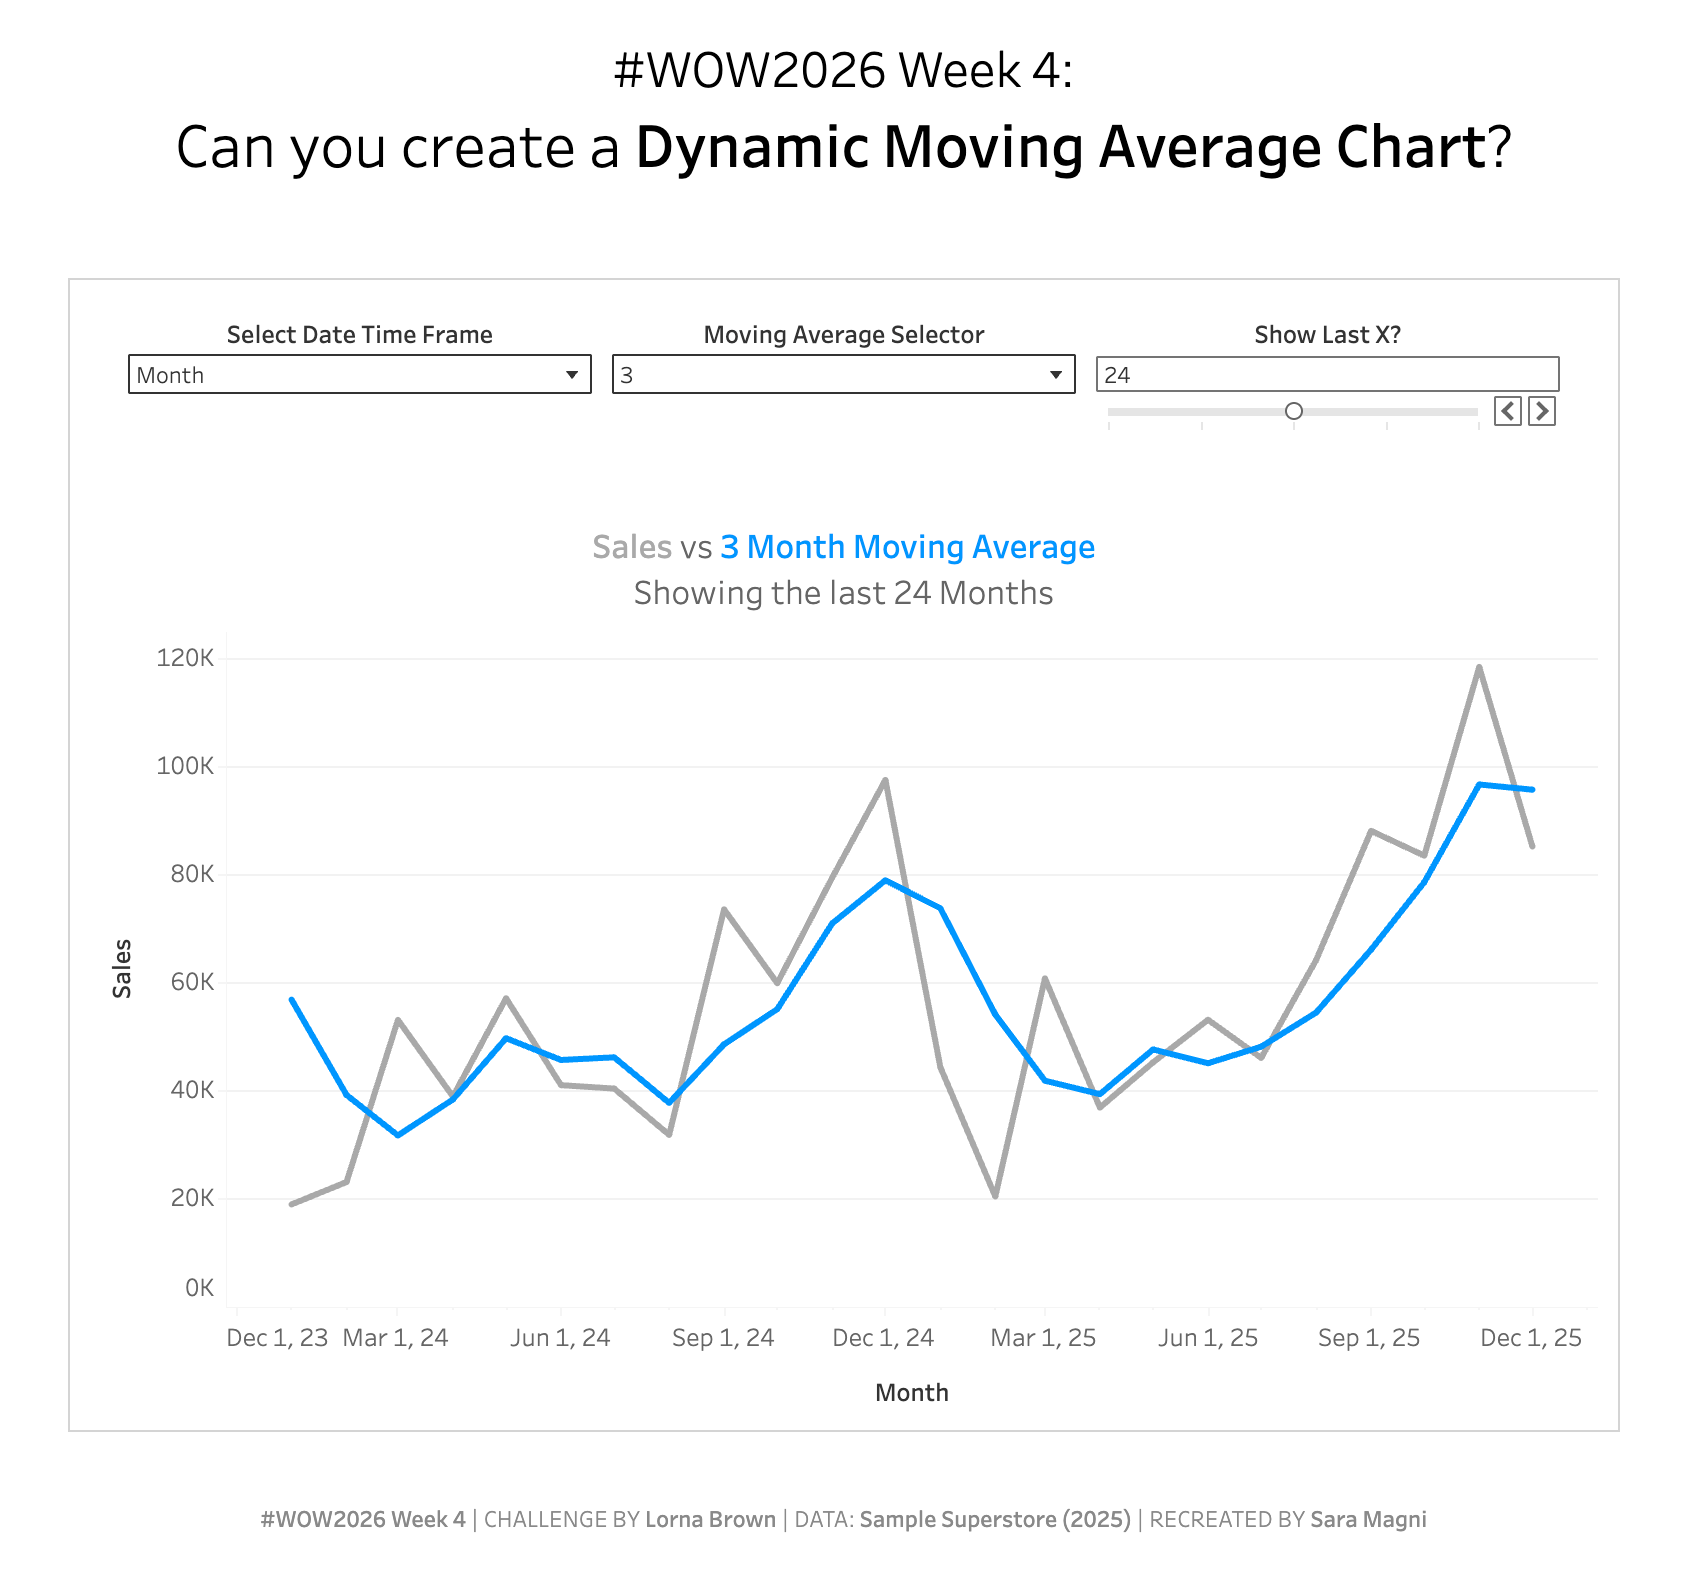

What the dashboard file says about the page in this screenshot:
{"tool":"tableau","page":{"name":"#wow26_w4","canvas":[800,800],"ordinal":0},"visuals":[{"type":"text","box":[8,8,784,102]},{"type":"blank","box":[8,110,784,30]},{"type":"worksheet","title":"Sheet 1","mark":"Automatic","cols":["Calculation_4043761389576193"],"box":[8,140,784,585]},{"type":"parameter","param":"[Parameters].[Parameter 1]","box":[37,159,242,92]},{"type":"parameter","param":"[Parameters].[Parameter 3]","box":[279,159,242,92]},{"type":"parameter","param":"[Parameters].[Parameter 4]","box":[521,159,242,92]},{"type":"blank","box":[8,725,784,30]},{"type":"text","box":[8,755,784,16]}]}

Visuals, with their boxes on the page's 800x800 design canvas (x1, y1, x2, y2). These are canvas units, not pixel positions in the 1686x1583 screenshot, which may show the page scaled, cropped or inside an application window:
text: 8:8:792:110
blank: 8:110:792:140
"Sheet 1" worksheet: 8:140:792:725
parameter: 37:159:279:251
parameter: 279:159:521:251
parameter: 521:159:763:251
blank: 8:725:792:755
text: 8:755:792:771
